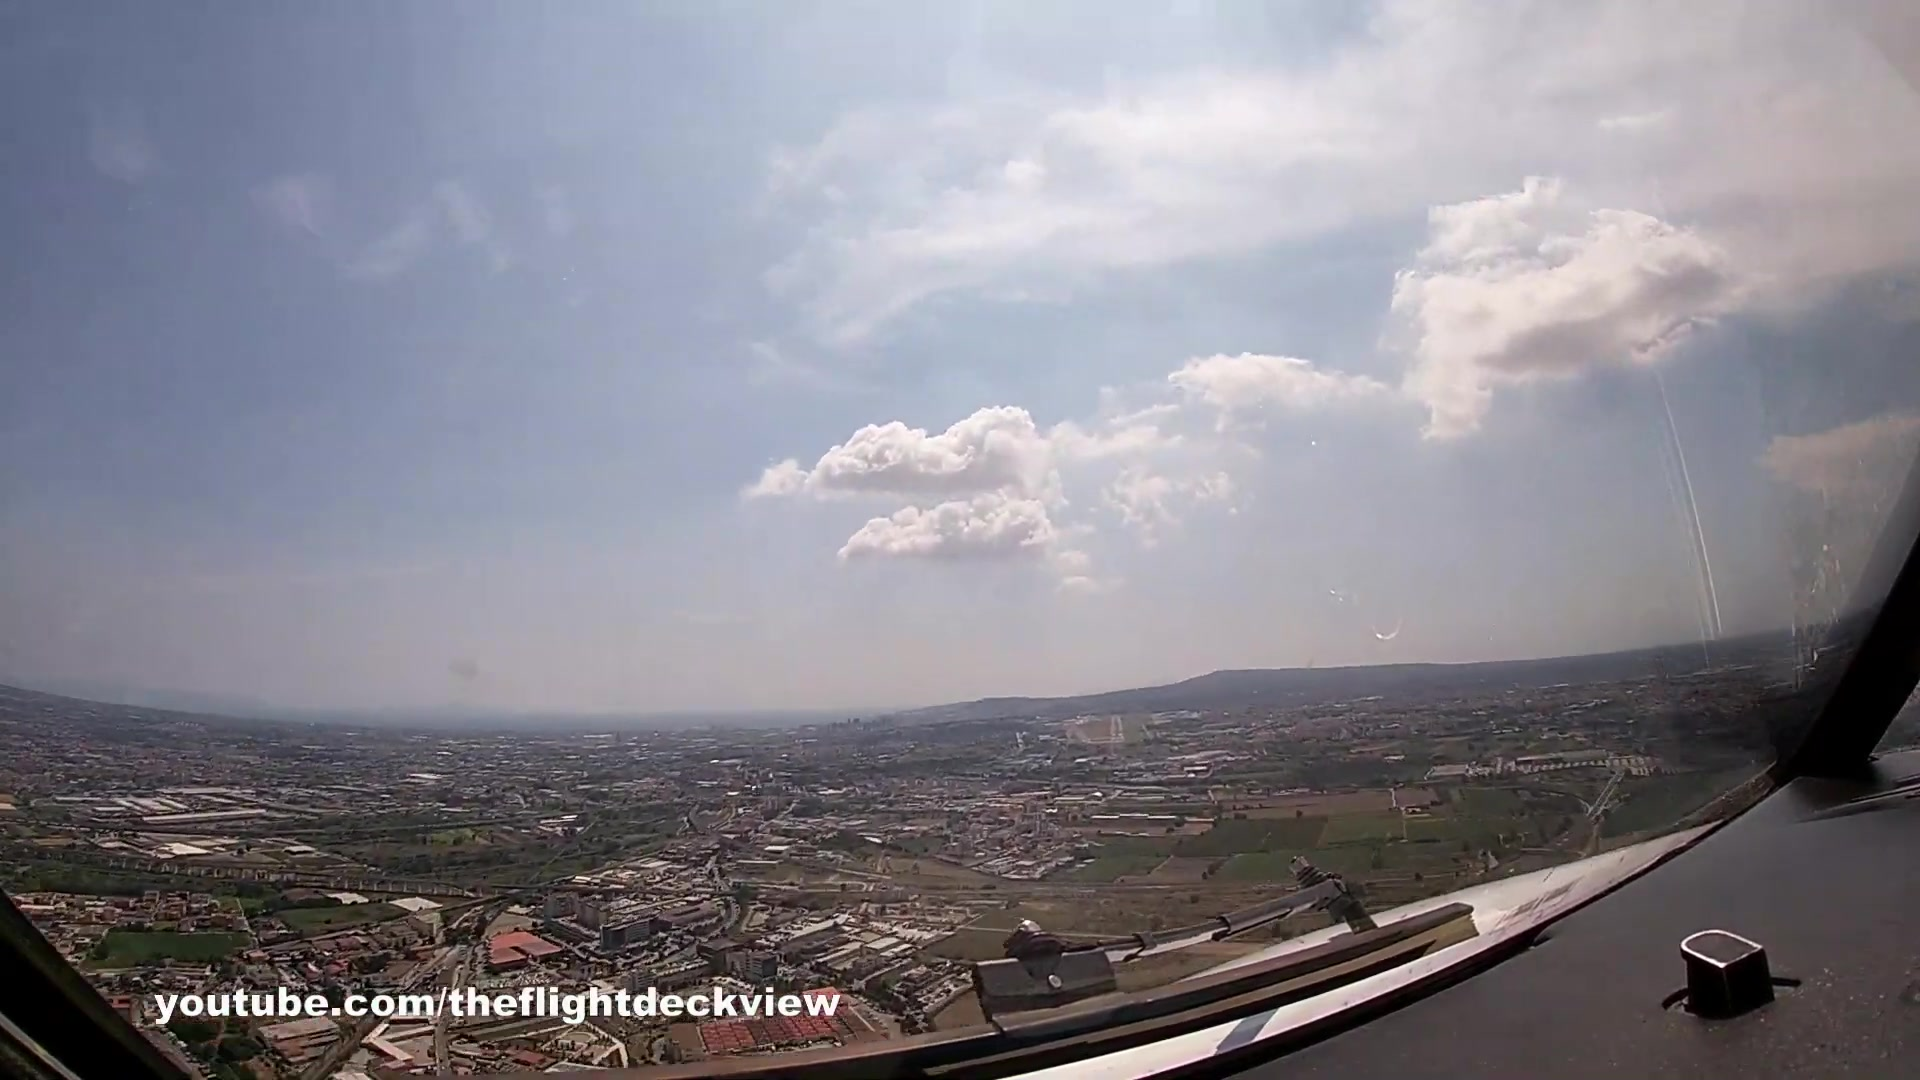runway: (1105, 716, 1126, 741)
